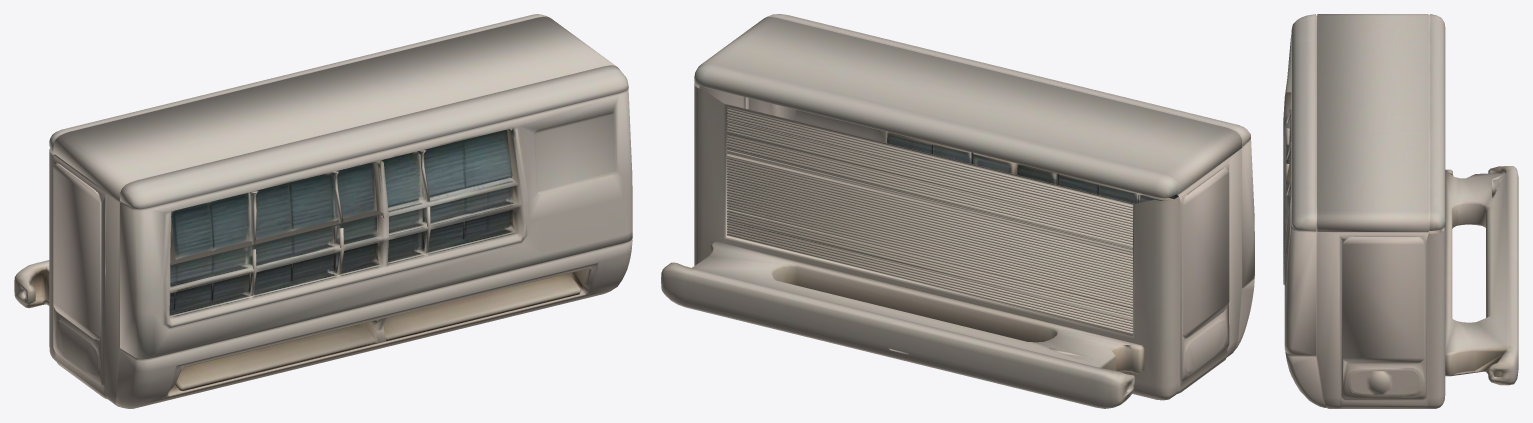
Rendered from Inside__AirConditioner1.cluster.glb.
3 renders of one model, left to right at view 1: azimuth 30°, elevation 25°; view 2: azimuth 150°, elevation 25°; view 3: azimuth 270°, elevation 25°, orthographic. The views are drawn at different scales.
Visible parts, largest first — view 1: AirConditioner1; view 2: AirConditioner1; view 3: AirConditioner1.
Part boxes in pixels (bbox=[...]): AirConditioner1: bbox=[14, 14, 632, 408]; AirConditioner1: bbox=[661, 14, 1254, 408]; AirConditioner1: bbox=[1283, 14, 1518, 408].
Size of the model in its own units: 1.9 by 0.8319 by 0.9015.
1 material, 1 textured.
